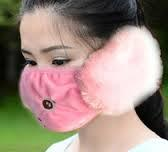OK: (21, 7, 145, 131)
